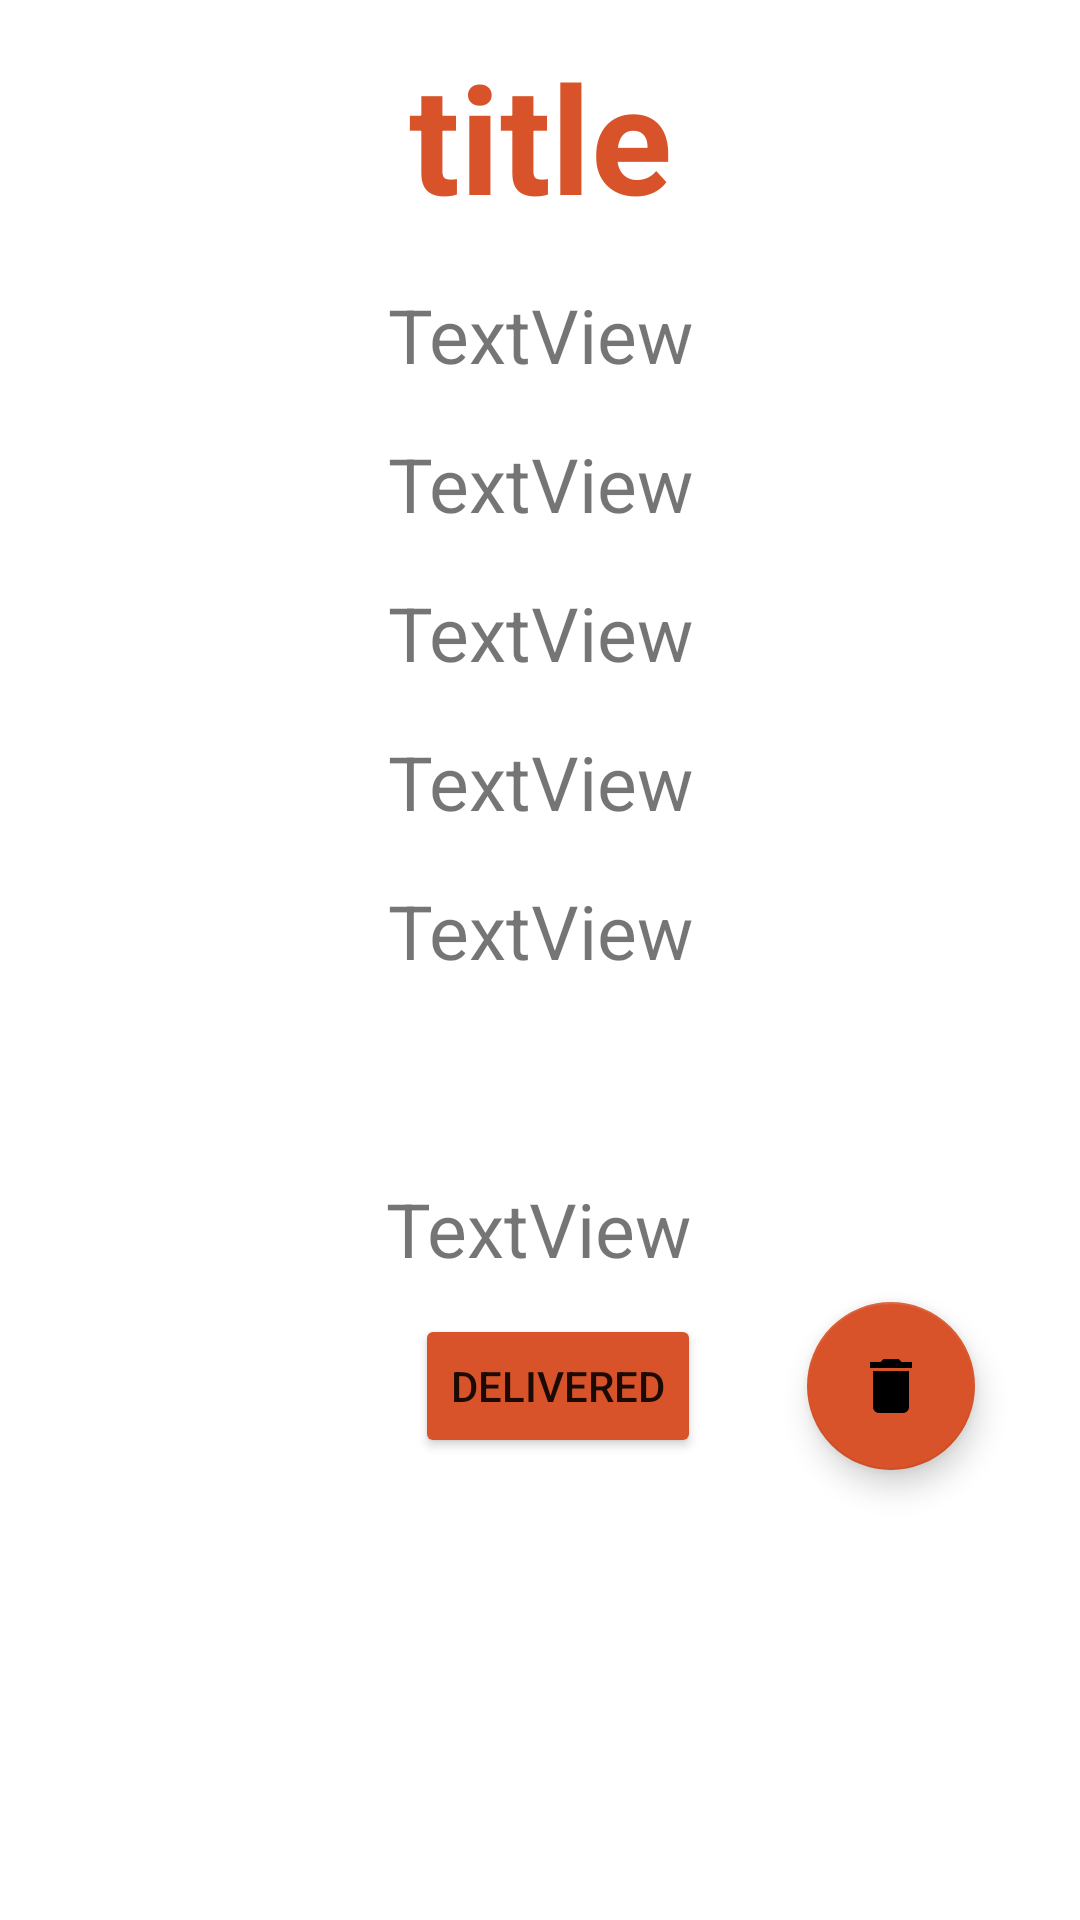

Where icons sit on this 1080 x 1920 app screen, as rect(x1, y1, x2, y2):
delete: rect(807, 1302, 975, 1470)
